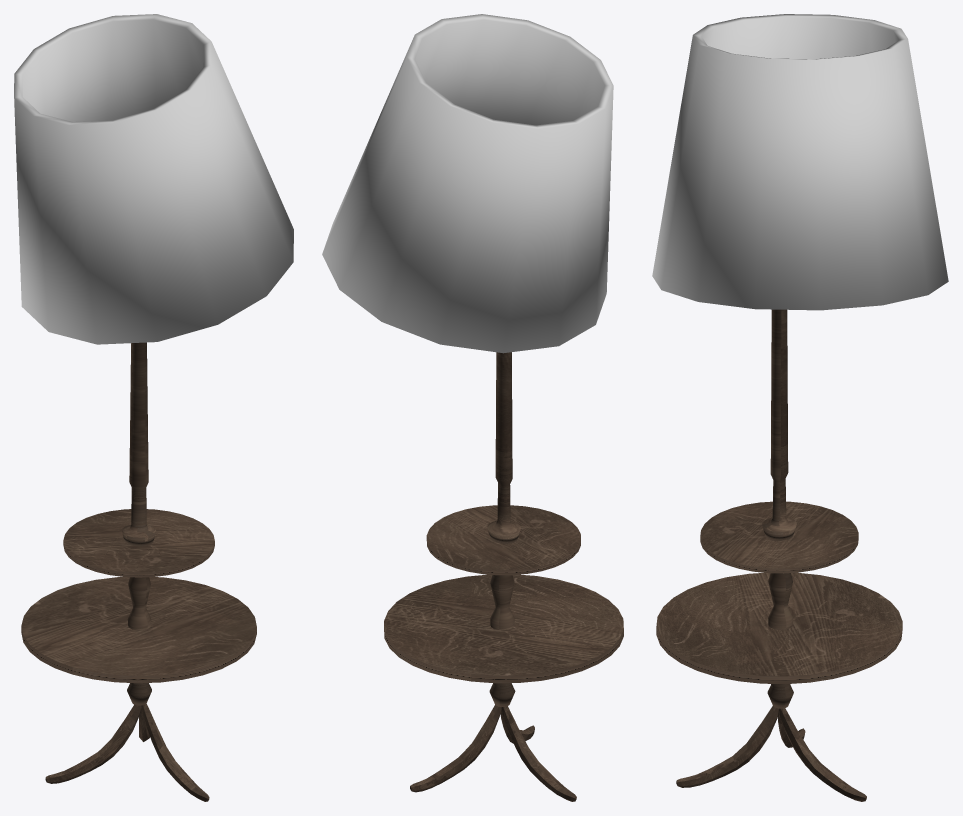
Rendered from Lampara.fbx.
3 views of the same model, side by side, from view 1: azimuth 30°, elevation 25°; view 2: azimuth 150°, elevation 25°; view 3: azimuth 270°, elevation 25° (orthographic). The views are drawn at different scales.
Parts seen in each view (by area): view 1: Cilindro.001, Cylinder.003, Esfera.001; view 2: Cilindro.001, Cylinder.003, Esfera.001; view 3: Cilindro.001, Cylinder.003, Esfera.001.
Part boxes in pixels (bbox=[...]): Cilindro.001: bbox=[14, 14, 293, 344]; Cylinder.003: bbox=[21, 342, 256, 705]; Esfera.001: bbox=[45, 703, 209, 801]; Cilindro.001: bbox=[322, 14, 613, 353]; Cylinder.003: bbox=[384, 352, 623, 706]; Esfera.001: bbox=[410, 705, 576, 801]; Cilindro.001: bbox=[652, 14, 948, 310]; Cylinder.003: bbox=[656, 309, 902, 708]; Esfera.001: bbox=[676, 705, 866, 801].
Size of the model in its own units: 60.5 by 166 by 59.3.
